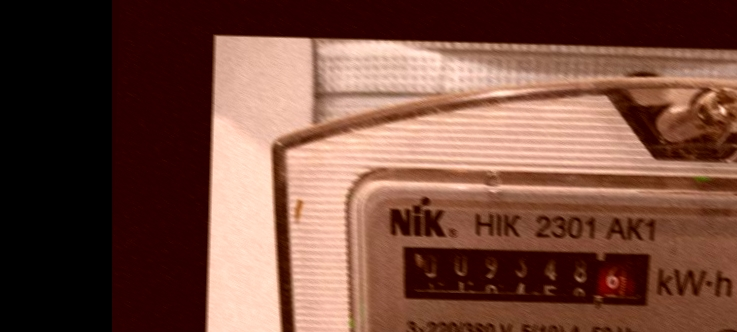0: (423, 253, 439, 279), (454, 251, 468, 277)
3: (515, 253, 529, 279)
4: (541, 252, 560, 283)
6: (604, 262, 622, 291)
8: (573, 256, 589, 284)
9: (484, 255, 499, 282)
screen: (385, 232, 665, 317)
